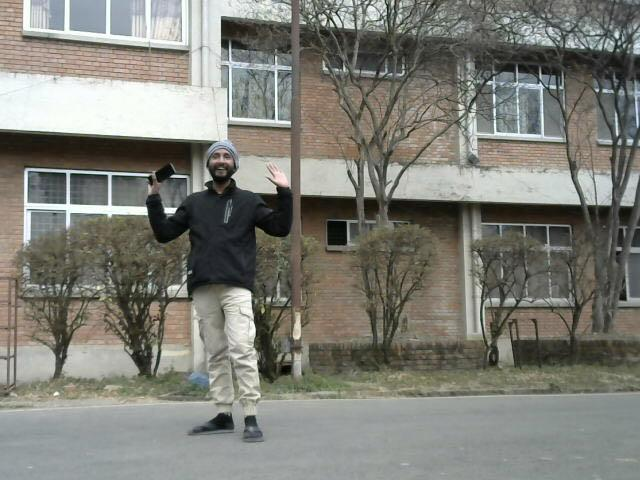Building: (0, 6, 640, 347)
Person: (145, 134, 317, 441)
Road: (12, 392, 640, 479)
Tree: (295, 0, 465, 366), (470, 8, 640, 357)
